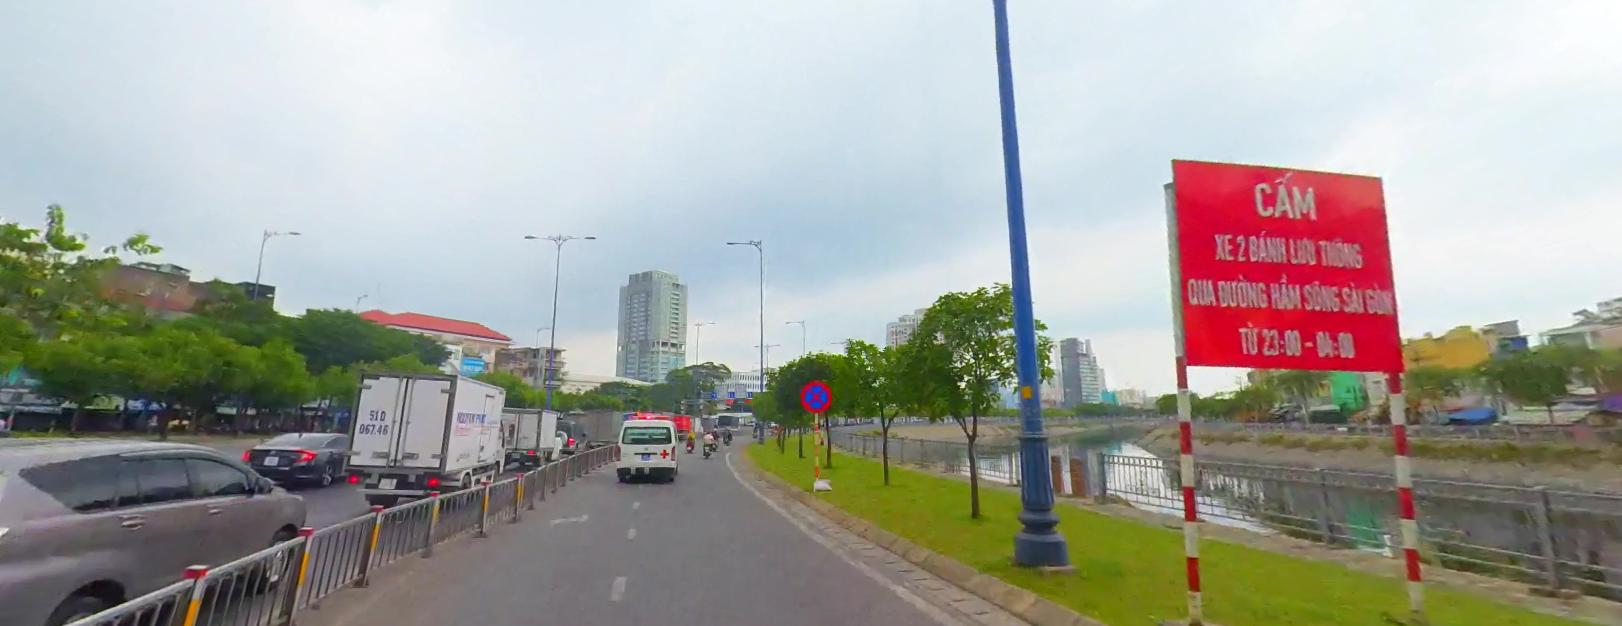Cam dung va do: (799, 379, 832, 410)
